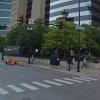Tree: (32, 20, 98, 56)
